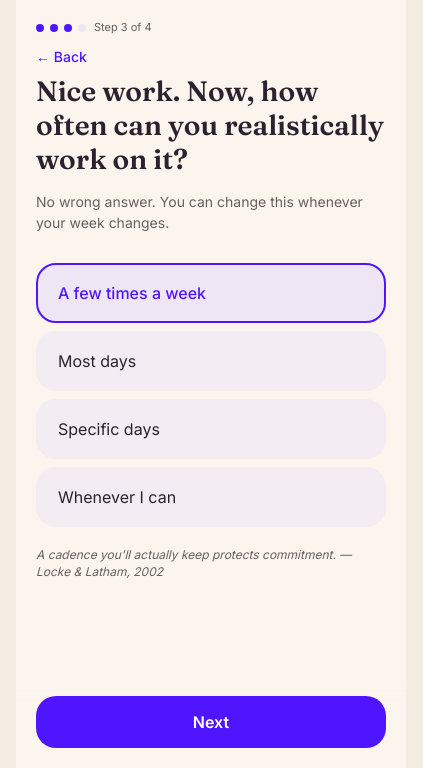
Scenario: "Specific days" reveals day picker when selected
Click the button "Specific days" at (109, 429), box [36,399,386,459]
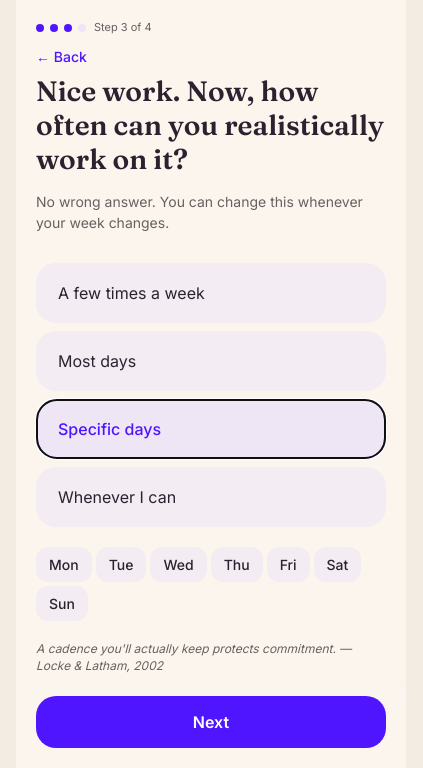
Check: the button "Mon" is shown, box [36,547,92,582]
